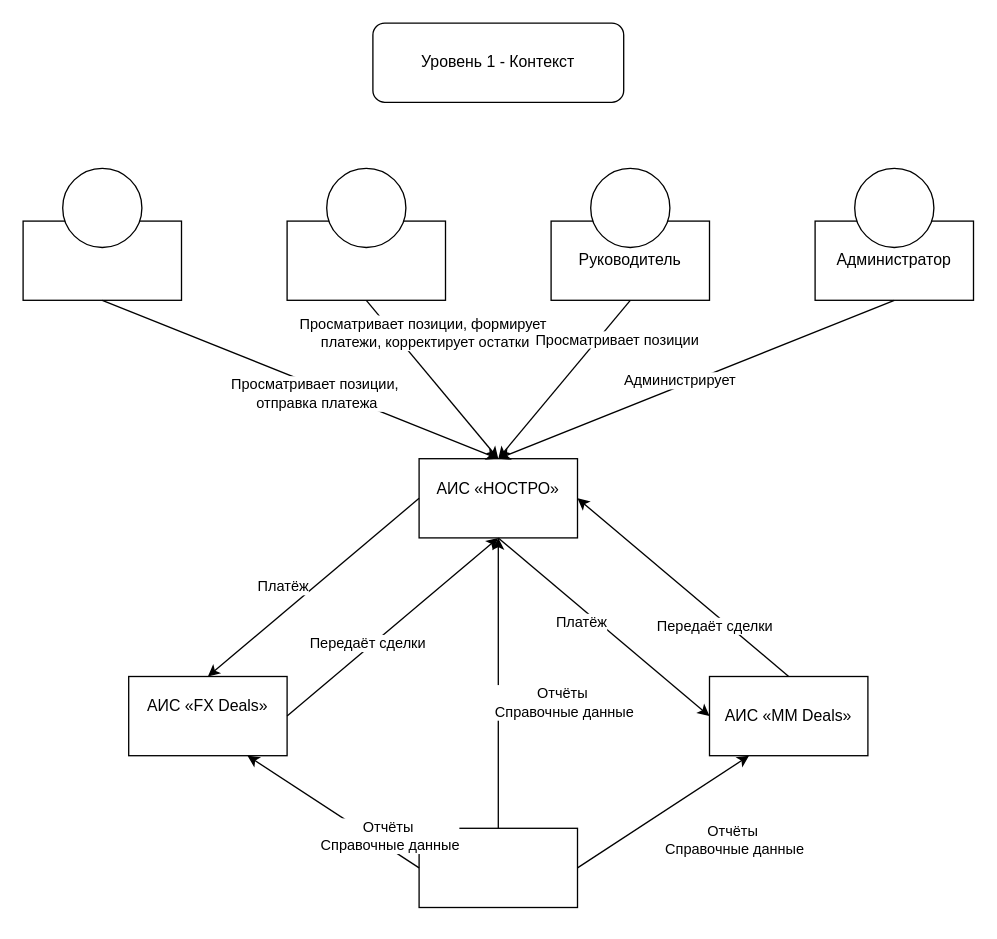
This 997x939 diagram has some shape labels left out. Here are the shapes that lost their labels. From the top down, the centre of each, then its label:
the point at 102,260: Дилер
the point at 366,260: Позиционер
the point at 498,867: АИС «НСИ» (Отчёты)
